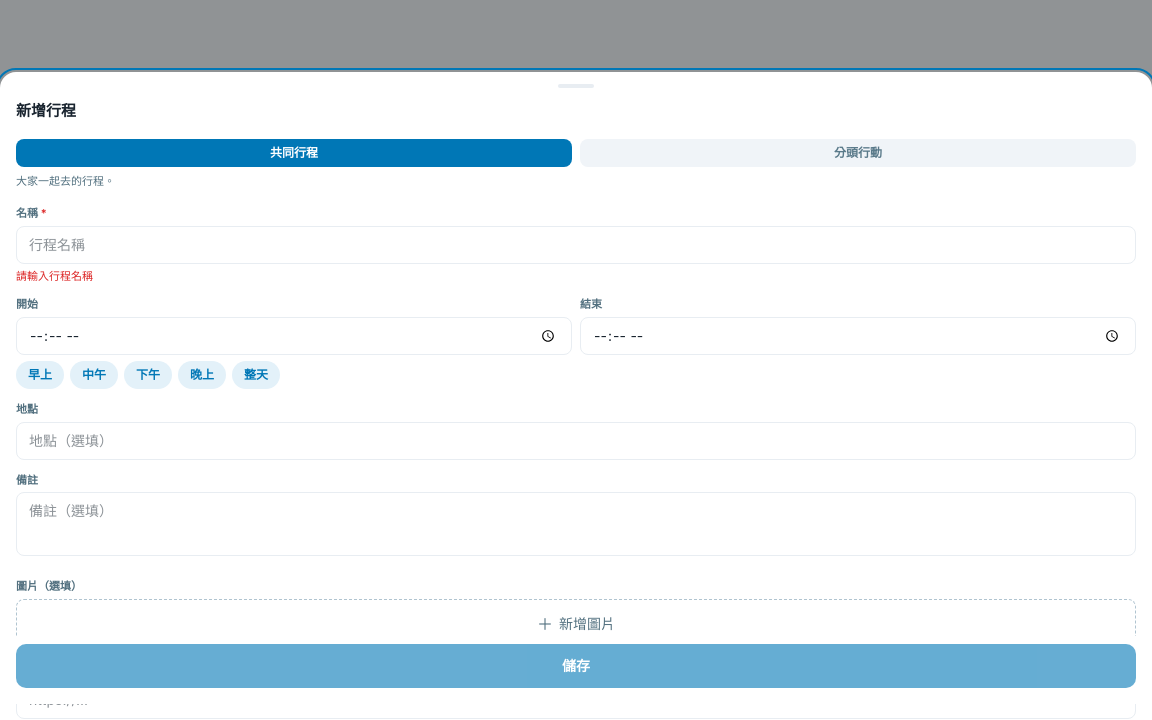
Test: EventSheet › fills times from a quick preset pill
Click the button "早上". click: (40, 375)
box: [16,361,64,389]
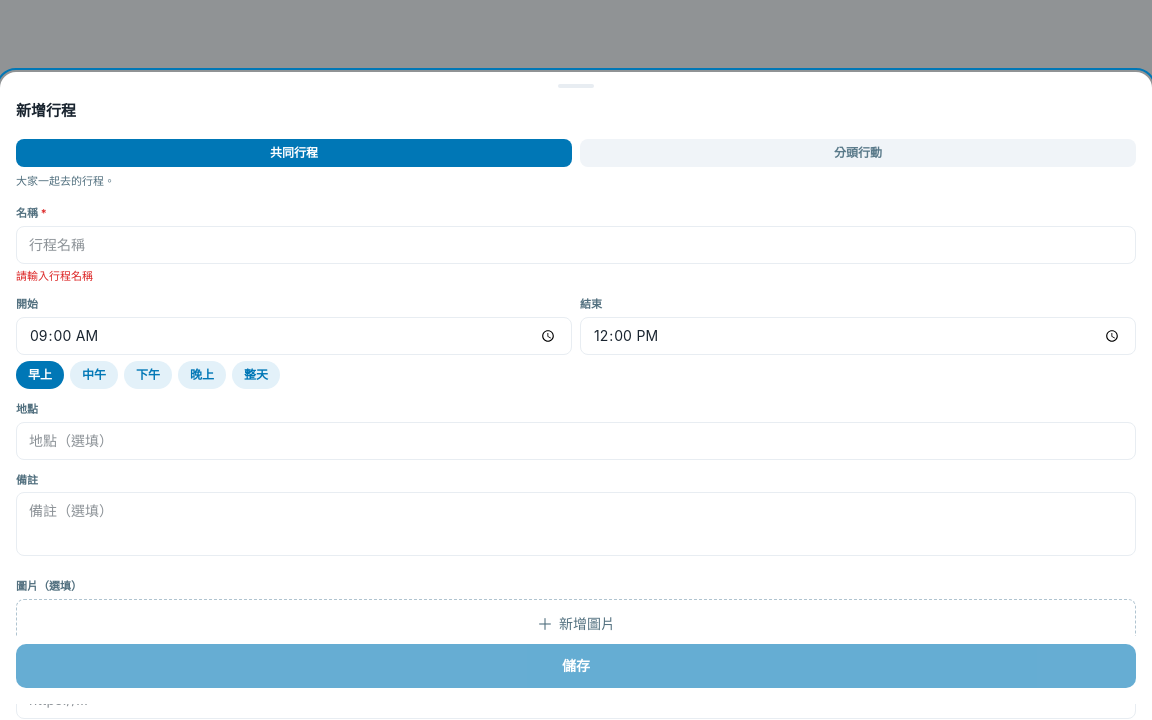
Check: the time field showing "09:00" is shown, box [16,316,572,355]
Check: the time field showing "12:00" is shown, box [580,316,1136,355]
